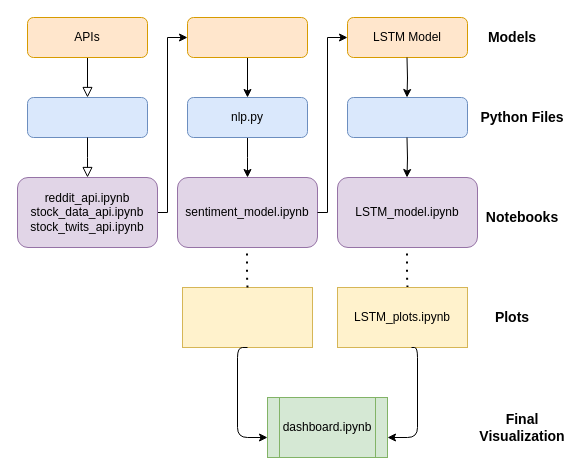
Image size: 585x475. Some labels were removed from this diagram. The centre of each missing label's shape, as x and y in pixels:
api_access.py: point 87,117
model_functions.py: point 407,117
NLP Model: point 247,37
sentiment_plots.ipynb: point 247,317
